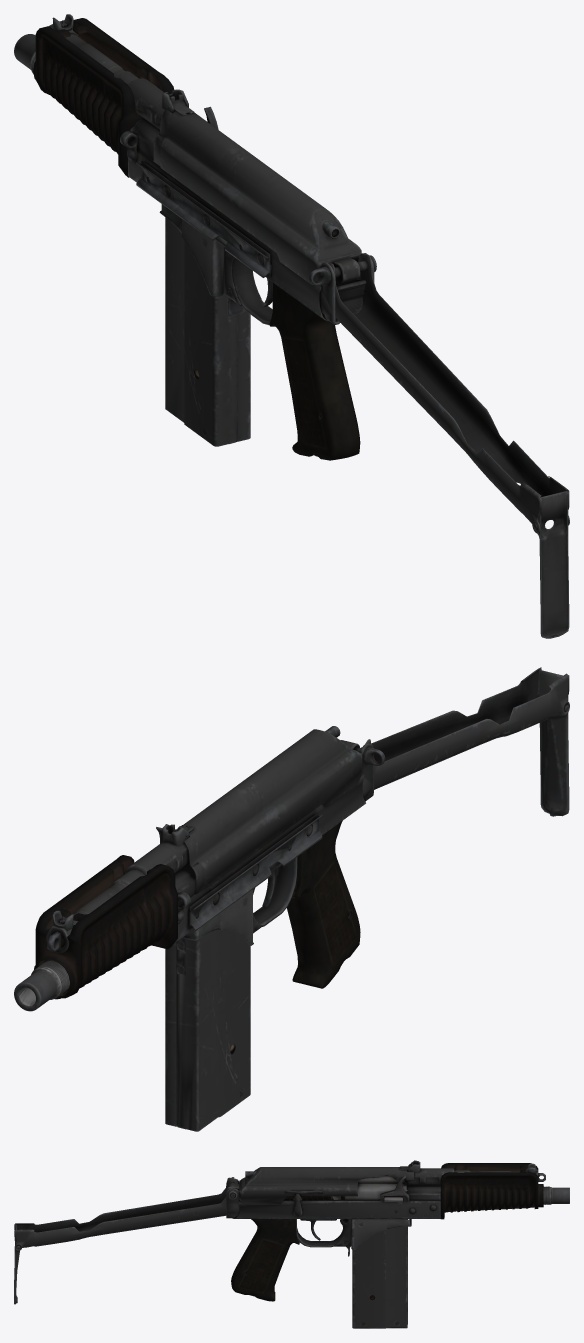
Rendered from smg_4.glb.
3 renders of one model, top to bottom at view 1: azimuth 30°, elevation 25°; view 2: azimuth 150°, elevation 25°; view 3: azimuth 270°, elevation 25°, orthographic. The views are drawn at different scales.
Parts seen in each view (by area): view 1: pp_main_base_02_low, pp_magaz_low, pp_but_01_low, pp_handle_low, pp_main_front_handle_low, pp_but_02_low, pp_device_loc_low, pp_baral_00_low, pp_main_base_low, pp_magaz_01_trim_01_low, pp_triger_main_01_low, pp_but_04_low; view 2: pp_magaz_low, pp_main_base_02_low, pp_main_front_handle_low, pp_but_01_low, pp_handle_low, pp_device_loc_low, pp_but_02_low, pp_baral_00_low, pp_main_base_low, pp_baral_01_low, pp_magaz_01_trim_01_low, pp_triger_main_01_low; view 3: pp_magaz_low, pp_but_01_low, pp_main_front_handle_low, pp_main_base_02_low, pp_main_base_low, pp_handle_low, pp_baral_00_low, pp_magaz_01_trim_01_low, pp_action_part_01_low, pp_baral_01_low, pp_but_04_low, pp_triger_main_01_low (+2 smaller).
Part boxes in pixels (left/top/right/bottom): pp_main_base_02_low: left=153, top=109, right=361, bottom=285; pp_magaz_low: left=165, top=217, right=250, bottom=446; pp_but_01_low: left=328, top=254, right=569, bottom=533; pp_handle_low: left=269, top=282, right=360, bottom=460; pp_main_front_handle_low: left=33, top=18, right=174, bottom=177; pp_but_02_low: left=537, top=491, right=569, bottom=638; pp_device_loc_low: left=136, top=160, right=271, bottom=277; pp_baral_00_low: left=65, top=33, right=188, bottom=159; pp_main_base_low: left=128, top=147, right=340, bottom=322; pp_magaz_01_trim_01_low: left=159, top=204, right=261, bottom=305; pp_triger_main_01_low: left=232, top=257, right=272, bottom=325; pp_but_04_low: left=319, top=253, right=376, bottom=324; pp_magaz_low: left=165, top=929, right=250, bottom=1131; pp_main_base_02_low: left=161, top=726, right=362, bottom=893; pp_main_front_handle_low: left=34, top=855, right=177, bottom=999; pp_but_01_low: left=361, top=667, right=569, bottom=789; pp_handle_low: left=275, top=821, right=360, bottom=988; pp_device_loc_low: left=188, top=813, right=322, bottom=930; pp_but_02_low: left=536, top=669, right=569, bottom=816; pp_baral_00_low: left=52, top=824, right=195, bottom=960; pp_main_base_low: left=174, top=772, right=365, bottom=943; pp_baral_01_low: left=14, top=960, right=69, bottom=1011; pp_magaz_01_trim_01_low: left=183, top=888, right=261, bottom=945; pp_triger_main_01_low: left=253, top=857, right=297, bottom=926; pp_magaz_low: left=352, top=1219, right=407, bottom=1328; pp_but_01_low: left=14, top=1177, right=239, bottom=1250; pp_main_front_handle_low: left=440, top=1163, right=543, bottom=1219; pp_main_base_02_low: left=239, top=1167, right=413, bottom=1204; pp_main_base_low: left=232, top=1191, right=440, bottom=1218; pp_handle_low: left=231, top=1219, right=299, bottom=1301; pp_baral_00_low: left=406, top=1160, right=519, bottom=1200; pp_magaz_01_trim_01_low: left=334, top=1219, right=411, bottom=1249; pp_action_part_01_low: left=344, top=1175, right=406, bottom=1201; pp_baral_01_low: left=543, top=1186, right=569, bottom=1204; pp_but_04_low: left=226, top=1178, right=239, bottom=1218; pp_triger_main_01_low: left=296, top=1219, right=343, bottom=1247.
Bounding box in the file's own units: 34.9 × 155 × 483.
Materials: 2 (2 with a texture image).
